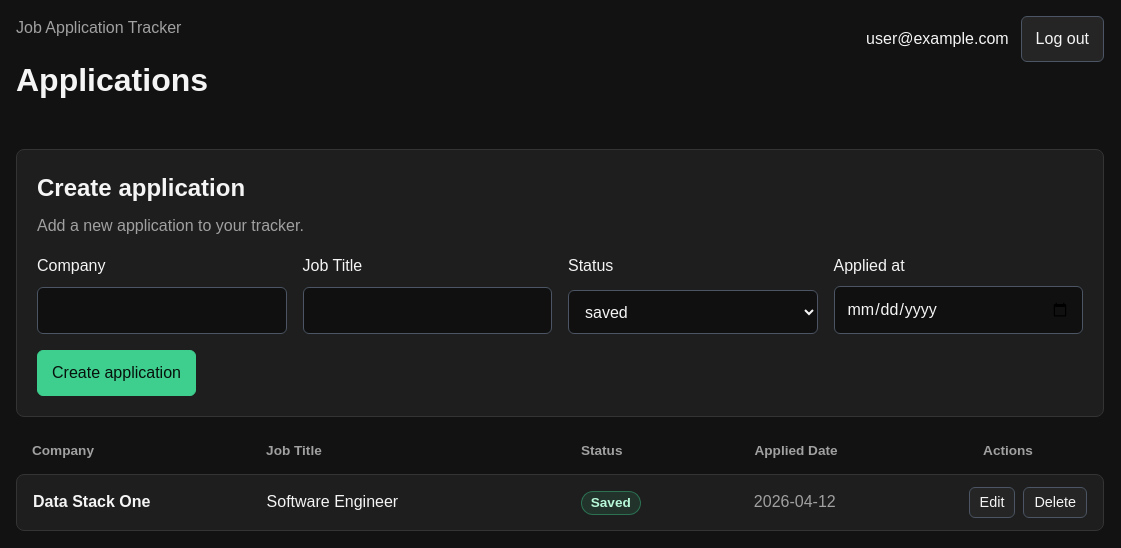
Scenario: ApplicationsPage update flow › reloads the applications list after a successful delete
The image size is (1121, 548).
Click the button "Delete": (1055, 502) [1023,487,1087,518]
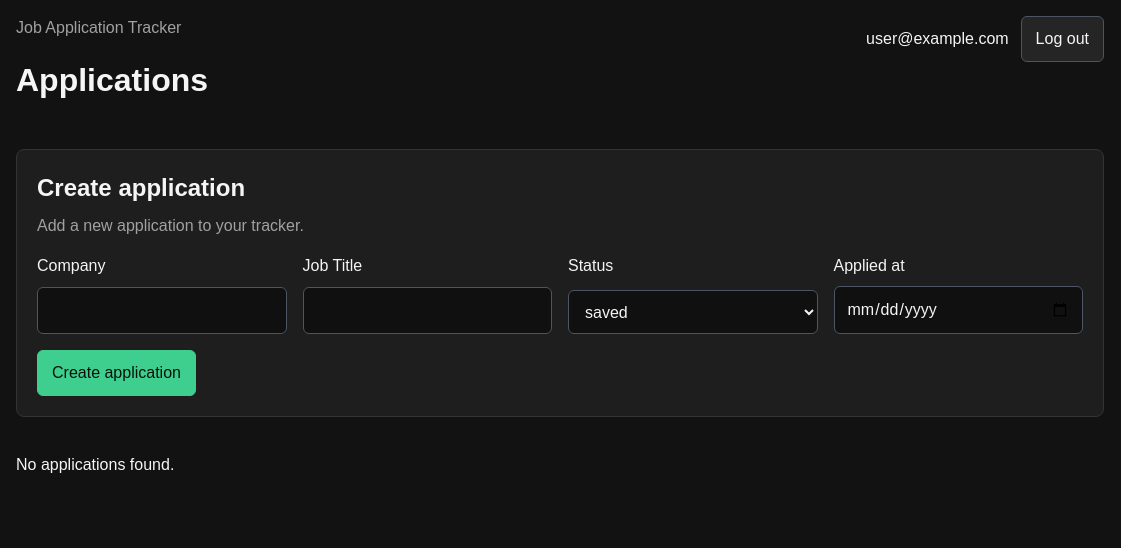
Expected: the text "No applications found." is shown, [16,456,174,473]
